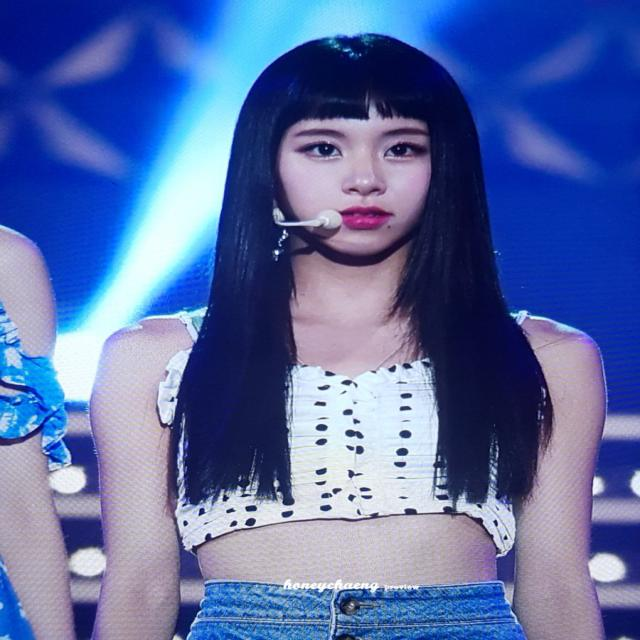face: (278, 95, 445, 260)
